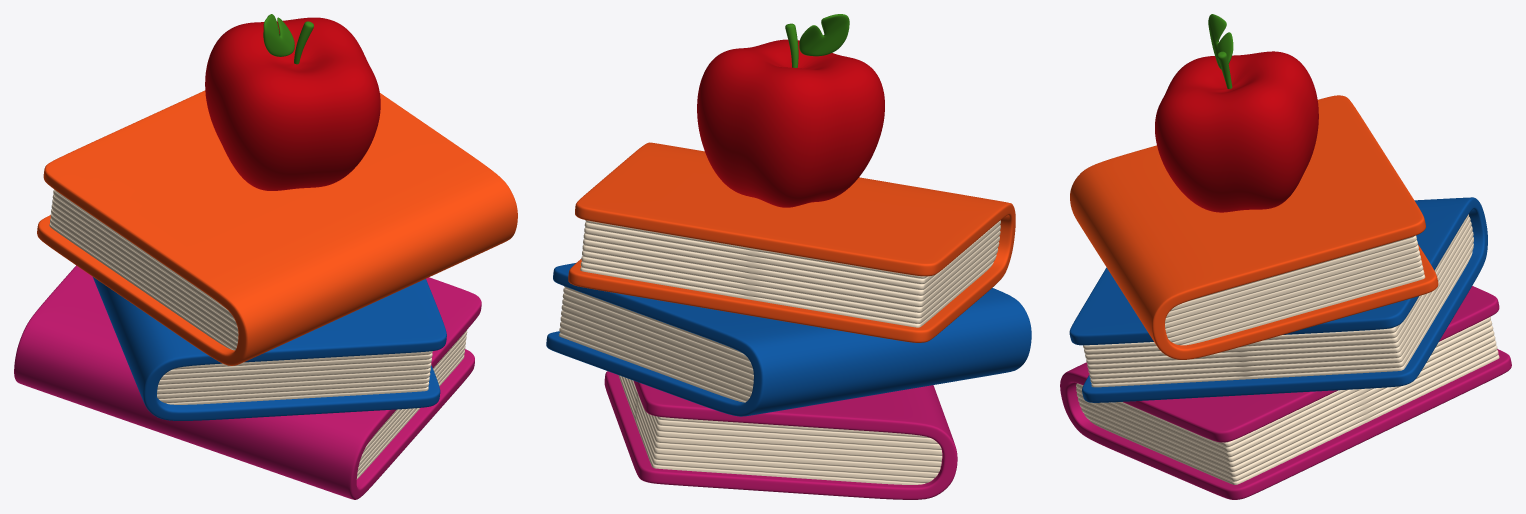
3 renders of one model, left to right at view 1: azimuth 30°, elevation 25°; view 2: azimuth 150°, elevation 25°; view 3: azimuth 270°, elevation 25°, orthographic. The views are drawn at different scales.
Visible parts, largest first — view 1: Cube.123, Cube.119, Sphere, Cube.121, Cube.122, Cube.124, Cube.120, Plane; view 2: Cube.123, Cube.121, Sphere, Cube.124, Cube.120, Cube.119, Cube.122, Plane; view 3: Cube.123, Sphere, Cube.121, Cube.120, Cube.119, Cube.122, Cube.124, Plane.
Part boxes in pixels (x1=…): Cube.123: x1=37, y1=90, x2=517, y2=365; Cube.119: x1=14, y1=265, x2=481, y2=499; Sphere: x1=205, y1=17, x2=380, y2=190; Cube.121: x1=93, y1=277, x2=446, y2=420; Cube.122: x1=157, y1=351, x2=432, y2=404; Cube.124: x1=49, y1=189, x2=238, y2=350; Cube.120: x1=356, y1=330, x2=467, y2=479; Plane: x1=263, y1=14, x2=294, y2=56; Cube.123: x1=568, y1=142, x2=1015, y2=342; Cube.121: x1=546, y1=262, x2=1031, y2=416; Sphere: x1=697, y1=39, x2=884, y2=207; Cube.124: x1=580, y1=220, x2=1000, y2=327; Cube.120: x1=618, y1=375, x2=942, y2=484; Cube.119: x1=604, y1=371, x2=957, y2=499; Cube.122: x1=559, y1=286, x2=753, y2=402; Plane: x1=799, y1=14, x2=849, y2=56; Cube.123: x1=1070, y1=95, x2=1438, y2=359; Sphere: x1=1155, y1=51, x2=1318, y2=212; Cube.121: x1=1069, y1=197, x2=1487, y2=402; Cube.120: x1=1076, y1=317, x2=1499, y2=484; Cube.119: x1=1060, y1=286, x2=1511, y2=499; Cube.122: x1=1083, y1=214, x2=1473, y2=387; Cube.124: x1=1165, y1=235, x2=1425, y2=345; Plane: x1=1208, y1=14, x2=1233, y2=69.
Bounding box in the file's own units: 6.02 × 6.22 × 6.2.
